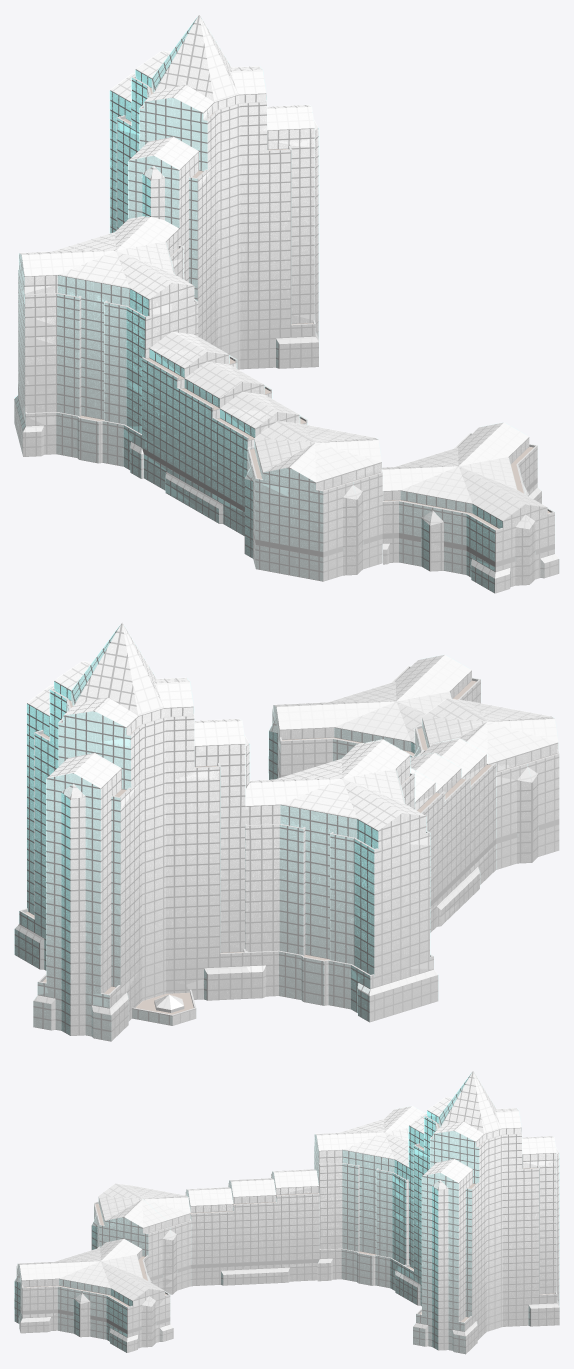
The model's file is nurli5.glb.
3 renders of one model, top to bottom at view 1: azimuth 30°, elevation 25°; view 2: azimuth 150°, elevation 25°; view 3: azimuth 270°, elevation 25°, orthographic. The views are drawn at different scales.
Parts seen in each view (by area): view 1: nurli-base, nurli-base-shell; view 2: nurli-base, nurli-base-shell; view 3: nurli-base, nurli-base-shell.
Part boxes in pixels (x1,y1,x2,y2): nurli-base: [14, 15, 559, 593]; nurli-base-shell: [14, 16, 559, 591]; nurli-base: [14, 623, 559, 1041]; nurli-base-shell: [14, 624, 559, 1040]; nurli-base: [14, 1071, 559, 1354]; nurli-base-shell: [14, 1072, 559, 1352].
Size of the model in its own units: 129 by 123 by 246.
4 materials, 1 textured.
